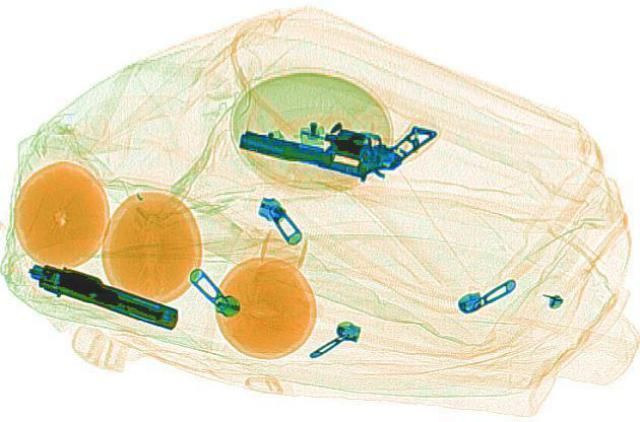Gun: (230, 88, 438, 187), (14, 256, 192, 327)
